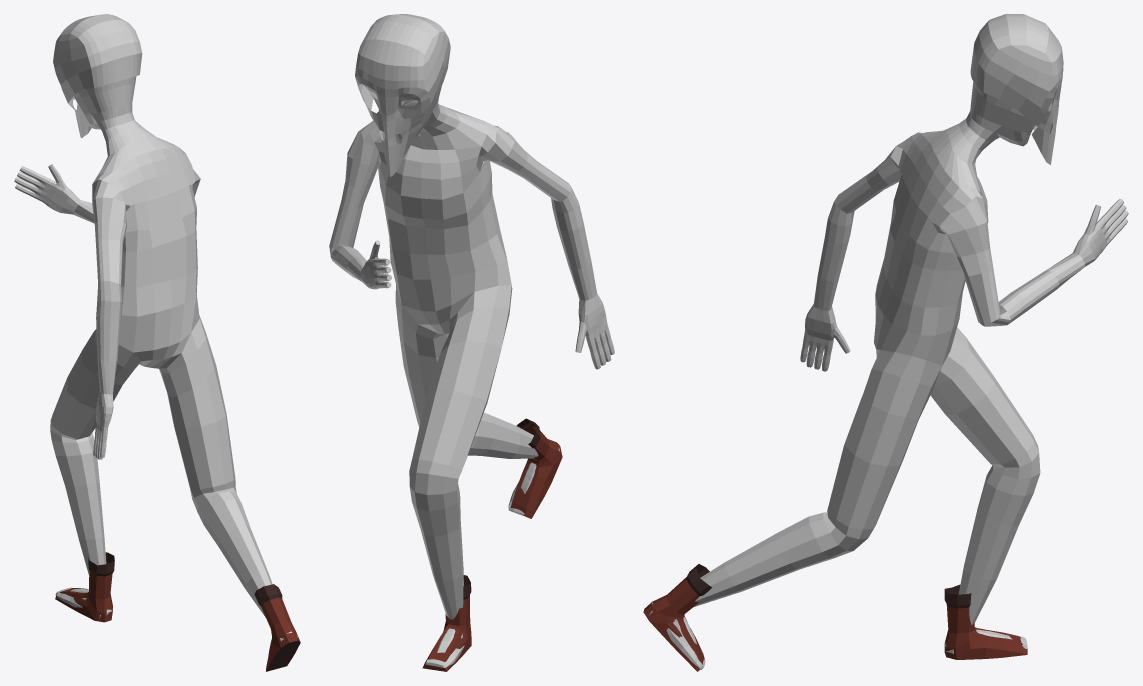
File: marcha5_000044.obj
The picture shows the model from 3 angles, left to right: view 1: azimuth 30°, elevation 25°; view 2: azimuth 150°, elevation 25°; view 3: azimuth 270°, elevation 25°; orthographic projection. The views are drawn at different scales.
Parts seen in each view (by area): view 1: Plane.002_Plane.001, Plane.003, Plane.004; view 2: Plane.002_Plane.001, Plane.003, Plane.004; view 3: Plane.002_Plane.001, Plane.004, Plane.003.
Boxes of the visible parts, <box> form: Plane.002_Plane.001: <box>14,14,297,641</box>; Plane.003: <box>254,584,300,671</box>; Plane.004: <box>55,552,114,622</box>; Plane.002_Plane.001: <box>329,14,614,667</box>; Plane.003: <box>510,418,562,518</box>; Plane.004: <box>422,575,471,671</box>; Plane.002_Plane.001: <box>649,14,1128,669</box>; Plane.004: <box>944,584,1027,659</box>; Plane.003: <box>643,564,711,671</box>.
Size of the model in its own units: 2.01 by 6.46 by 4.39.
